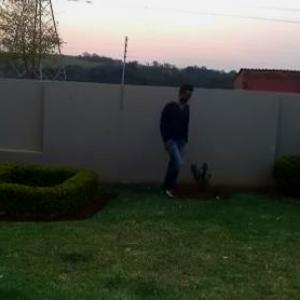follow: (155, 83, 190, 195)
